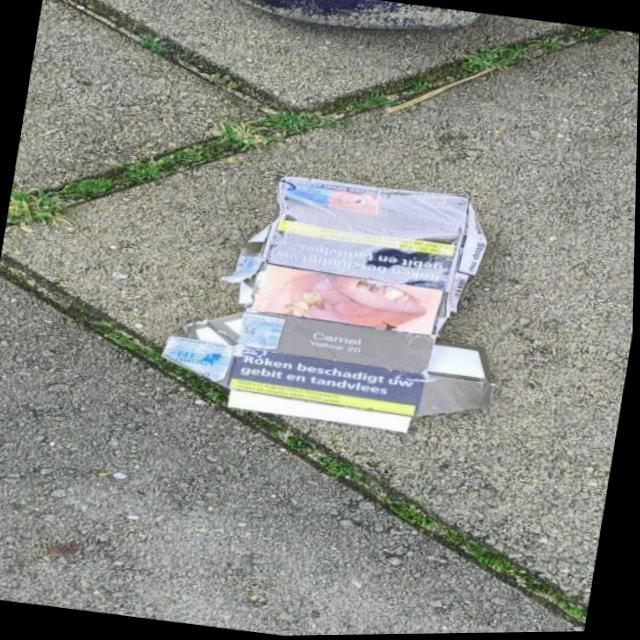Paper: (151, 154, 529, 450)
